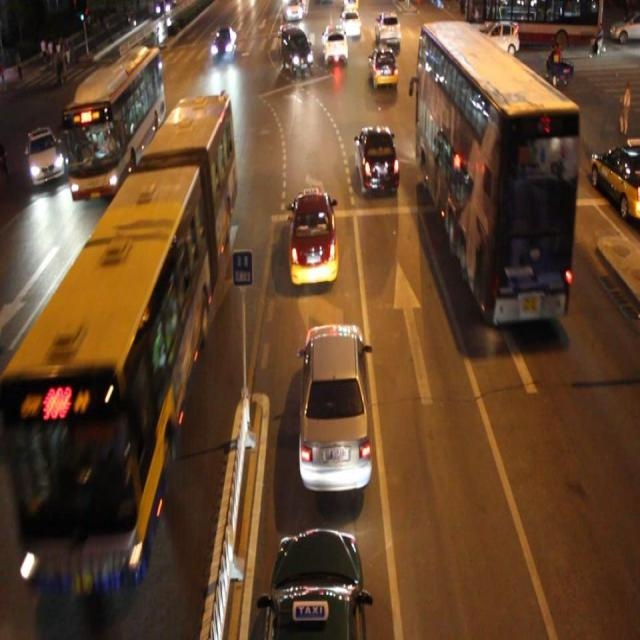car: (297, 319, 373, 495), (260, 526, 367, 640), (287, 188, 339, 284), (356, 126, 399, 196), (26, 125, 64, 184), (280, 28, 314, 75), (370, 46, 398, 87), (210, 26, 237, 64), (322, 26, 348, 65)
van: (13, 95, 232, 617), (416, 22, 570, 319), (64, 45, 162, 198)
